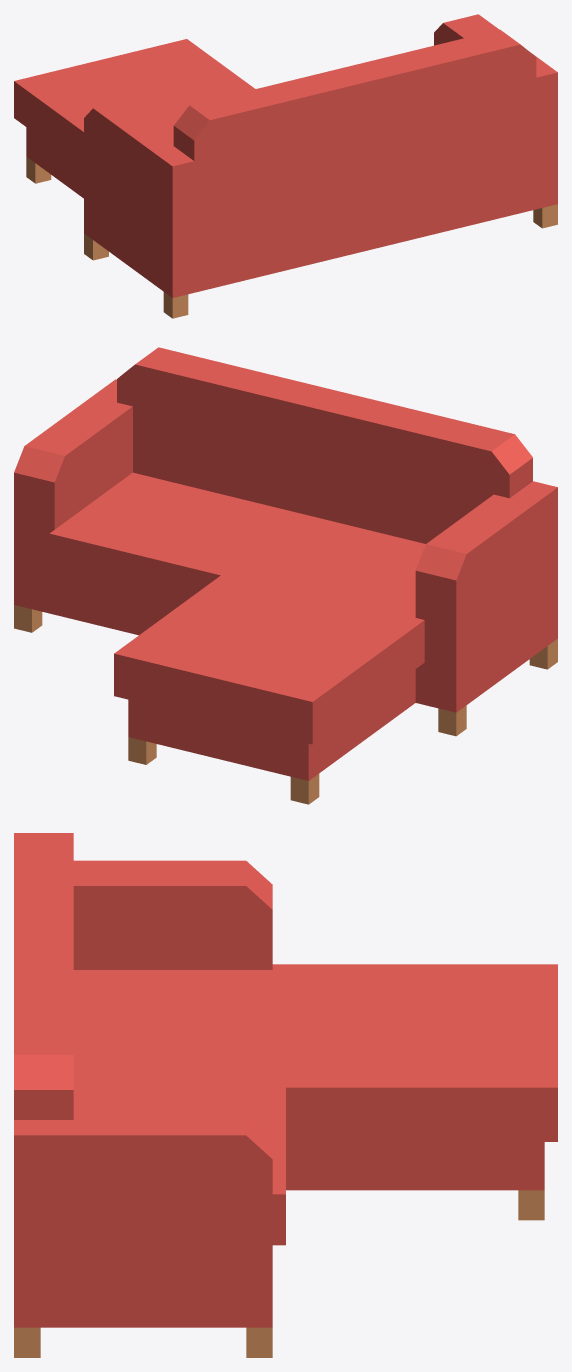
Rendered from Lounge Sofa Long.glb.
3 views of the same model, one above another, from view 1: azimuth 30°, elevation 25°; view 2: azimuth 150°, elevation 25°; view 3: azimuth 270°, elevation 25° (orthographic). The views are drawn at different scales.
Visible parts, largest first — view 1: loungeSofaLong; view 2: loungeSofaLong; view 3: loungeSofaLong.
Boxes of the visible parts, x1=… form: loungeSofaLong: x1=14, y1=14, x2=557, y2=318; loungeSofaLong: x1=14, y1=347, x2=557, y2=804; loungeSofaLong: x1=14, y1=833, x2=557, y2=1357.
Bounding box in the file's own units: 0.98 × 0.46 × 0.82.
